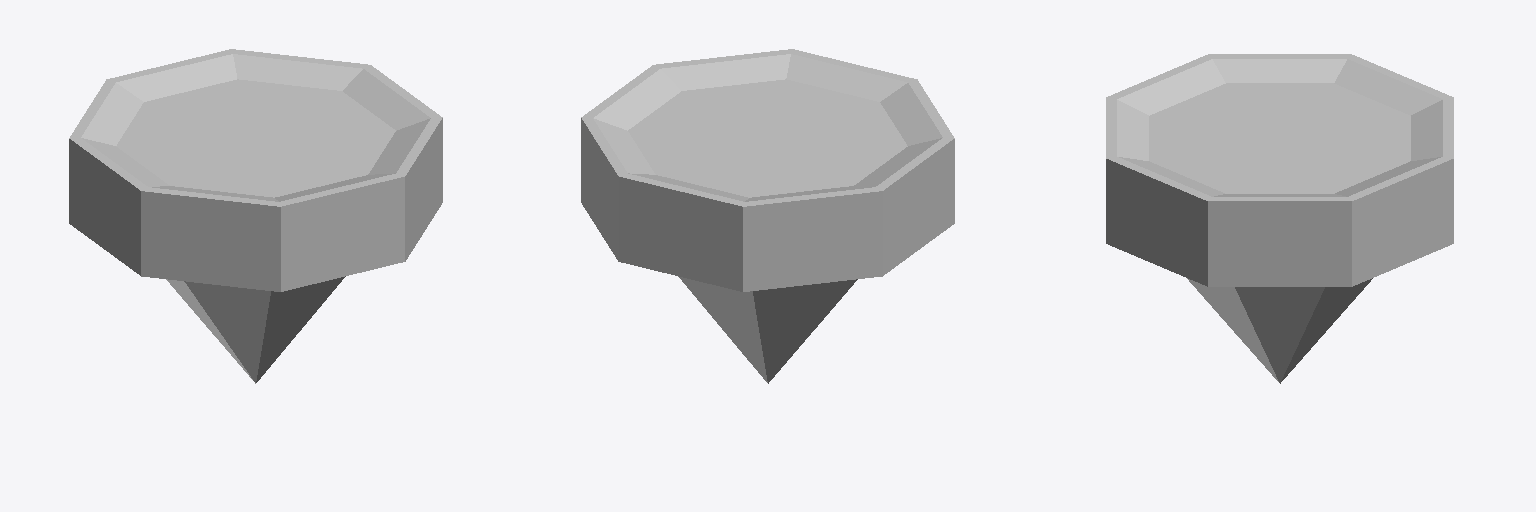
File: radiant_crafting_table.obj
The picture shows the model from 3 angles: view 1: azimuth 30°, elevation 25°; view 2: azimuth 150°, elevation 25°; view 3: azimuth 270°, elevation 25°; orthographic projection.
Parts seen in each view (by area): view 1: craftingtable; view 2: craftingtable; view 3: craftingtable.
Boxes of the visible parts, <box> form: craftingtable: <box>69,49,442,383</box>; craftingtable: <box>581,49,954,383</box>; craftingtable: <box>1106,54,1453,383</box>.
Bounding box in the file's own units: 0.9093 × 0.7382 × 0.9093.